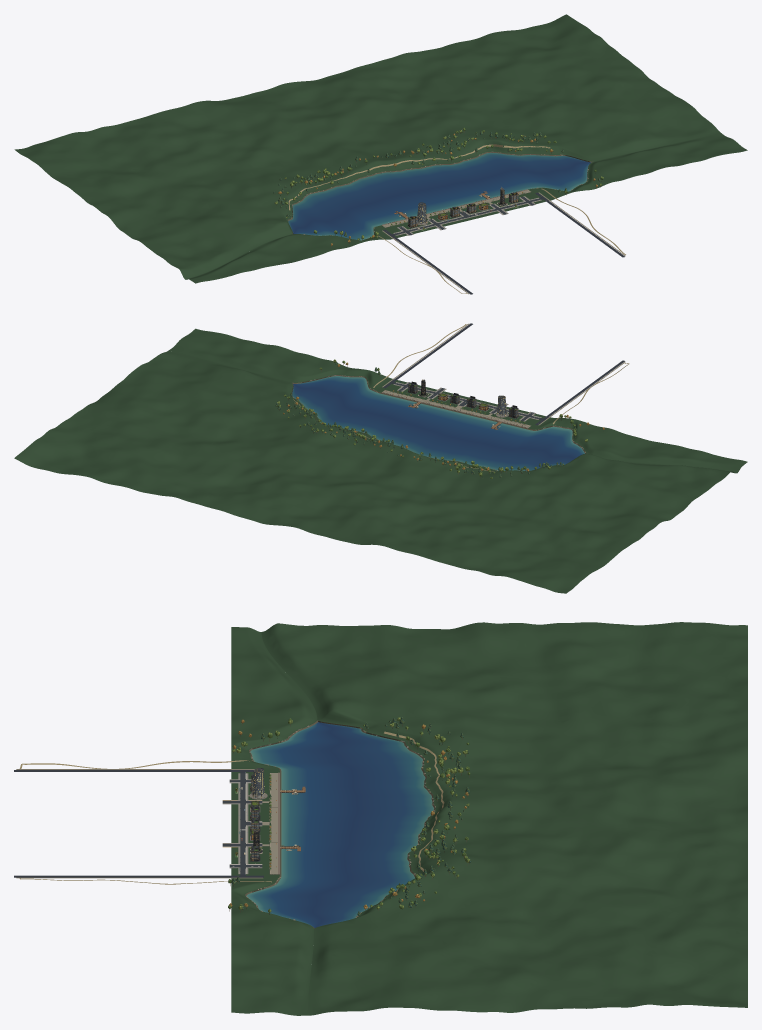
The model's file is north-lakeshore.glb.
3 views of the same model, one above another, from view 1: azimuth 30°, elevation 25°; view 2: azimuth 150°, elevation 25°; view 3: azimuth 270°, elevation 25° (orthographic). The views are drawn at different scales.
Visible parts, largest first — view 1: Far shore parkland.001, NEXCIV water, NEXCIV land, NEXCIV shore, NEXCIV paving; view 2: Far shore parkland.001, NEXCIV water, NEXCIV land, NEXCIV shore, NEXCIV paving; view 3: Far shore parkland.001, NEXCIV water, NEXCIV land, NEXCIV shore, NEXCIV paving.
Part boxes in pixels (<box>): Far shore parkland.001: <box>14,14,720,279</box>; NEXCIV water: <box>288,153,590,240</box>; NEXCIV land: <box>185,133,747,283</box>; NEXCIV shore: <box>273,127,625,294</box>; NEXCIV paving: <box>393,196,541,235</box>; Far shore parkland.001: <box>14,350,736,593</box>; NEXCIV water: <box>292,376,584,471</box>; NEXCIV land: <box>169,328,747,473</box>; NEXCIV shore: <box>275,323,629,478</box>; NEXCIV paving: <box>393,382,541,421</box>; Far shore parkland.001: <box>261,622,747,1015</box>; NEXCIV water: <box>246,722,433,927</box>; NEXCIV land: <box>231,627,317,1015</box>; NEXCIV shore: <box>14,717,471,928</box>; NEXCIV paving: <box>222,773,262,874</box>.
Size of the model in its own units: 1140 by 40.16 by 922.
Materials: 71 (4 with a texture image).
